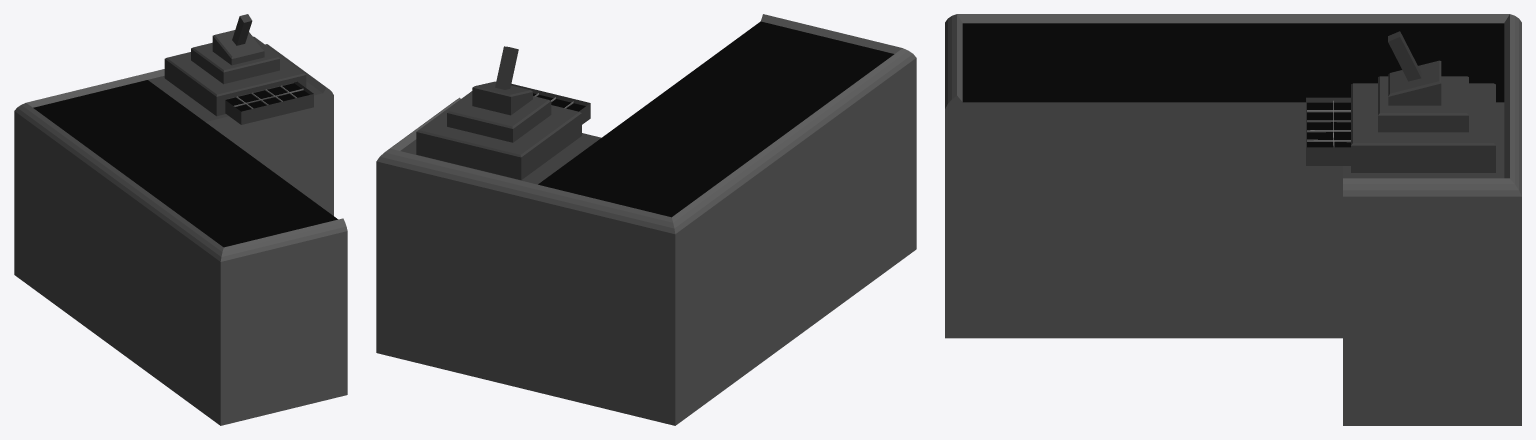
File: Kasa2.fbx
3 views of the same model, side by side, from view 1: azimuth 30°, elevation 25°; view 2: azimuth 150°, elevation 25°; view 3: azimuth 270°, elevation 25° (orthographic). The views are drawn at different scales.
Parts seen in each view (by area): view 1: Cube.001, Cube.002; view 2: Cube.001, Cube.002; view 3: Cube.001, Cube.002.
Part boxes in pixels (left/top/right/bottom): Cube.001: left=14, top=14, right=347, bottom=425; Cube.002: left=225, top=81, right=313, bottom=124; Cube.001: left=376, top=14, right=916, bottom=425; Cube.002: left=511, top=83, right=590, bottom=124; Cube.001: left=945, top=14, right=1521, bottom=425; Cube.002: left=1306, top=97, right=1350, bottom=165.
Size of the model in its own units: 200 by 184 by 279.
2 materials, 2 textured.
